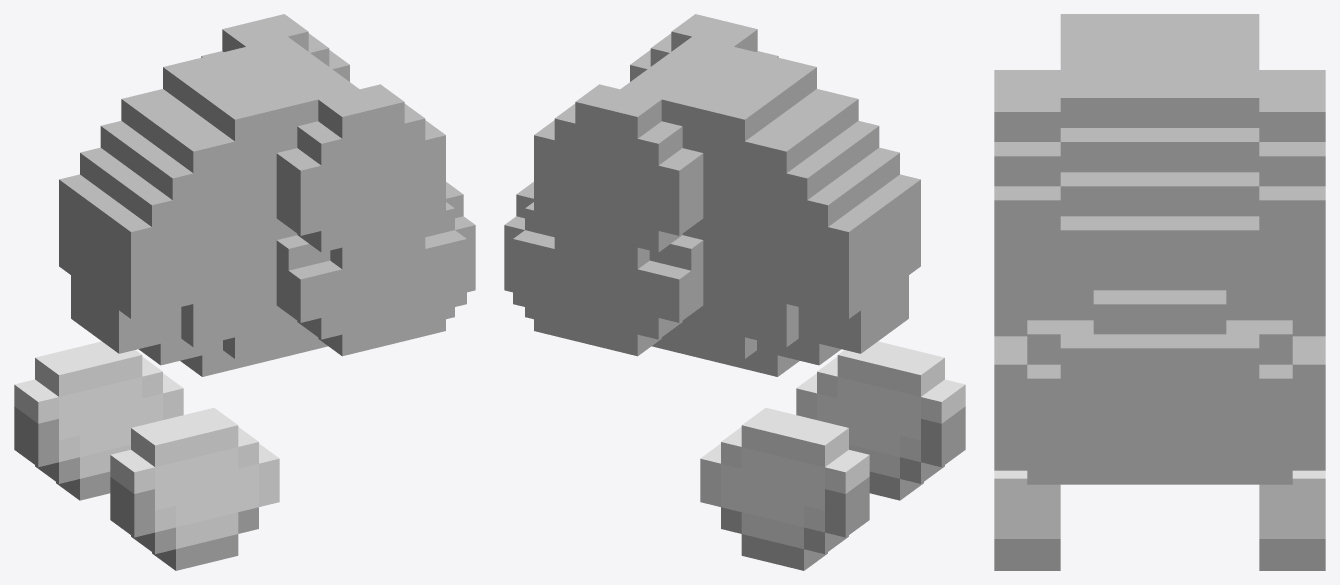
The model's file is Bird.fbx.
3 renders of one model, left to right at view 1: azimuth 30°, elevation 25°; view 2: azimuth 150°, elevation 25°; view 3: azimuth 270°, elevation 25°, orthographic. The views are drawn at different scales.
Visible parts, largest first — view 1: untitled-3, untitled-2, Untitled, Untitled.001; view 2: untitled-3, untitled-2, Untitled.001, Untitled; view 3: untitled-3, Untitled.001, Untitled, untitled-2.
Part boxes in pixels (bbox=[...]): untitled-3: bbox=[59, 36, 475, 376]; untitled-2: bbox=[14, 341, 279, 570]; Untitled: bbox=[226, 31, 445, 269]; Untitled.001: bbox=[201, 14, 445, 268]; untitled-3: bbox=[504, 36, 920, 376]; untitled-2: bbox=[700, 341, 965, 570]; Untitled.001: bbox=[534, 14, 778, 269]; Untitled: bbox=[596, 41, 741, 268]; untitled-3: bbox=[994, 14, 1325, 484]; Untitled.001: bbox=[994, 70, 1325, 336]; Untitled: bbox=[994, 112, 1325, 336]; untitled-2: bbox=[994, 470, 1325, 570].
Size of the model in its own units: 170 by 190 by 100.
